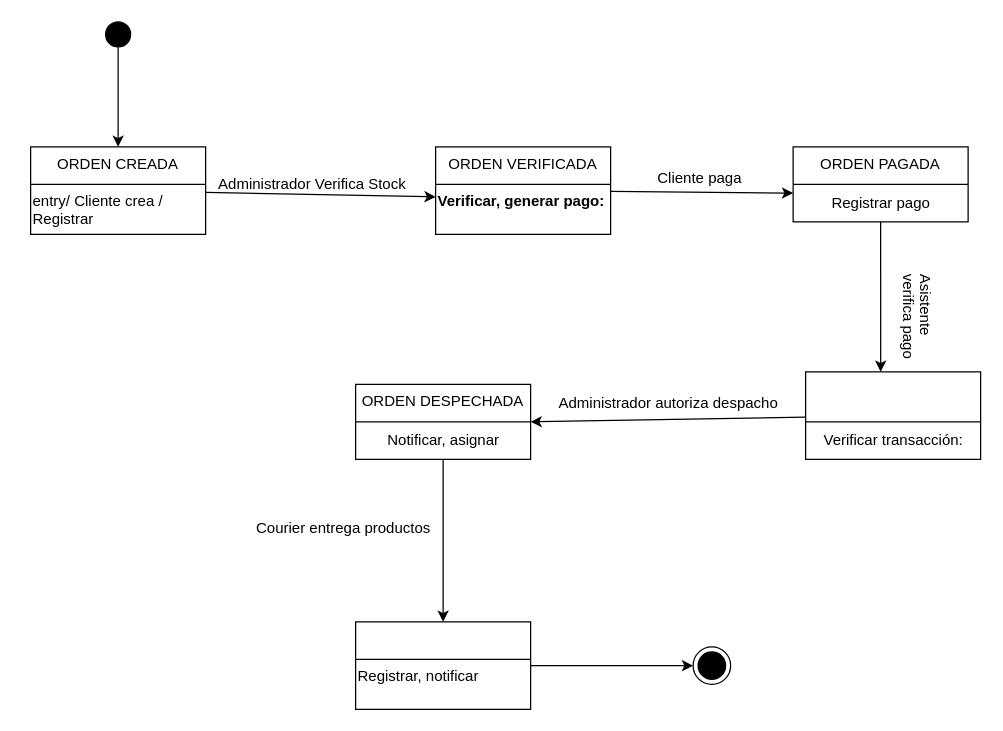
Image size: 1003x731. Some labels were removed from this diagram. The box of each missing label's shape, as (x1, y1, x2, y2) in pixels:
ORDEN ENTREGADA: (354, 621, 531, 709)
ORDEN VERIFICADA PAGO: (804, 371, 981, 459)
